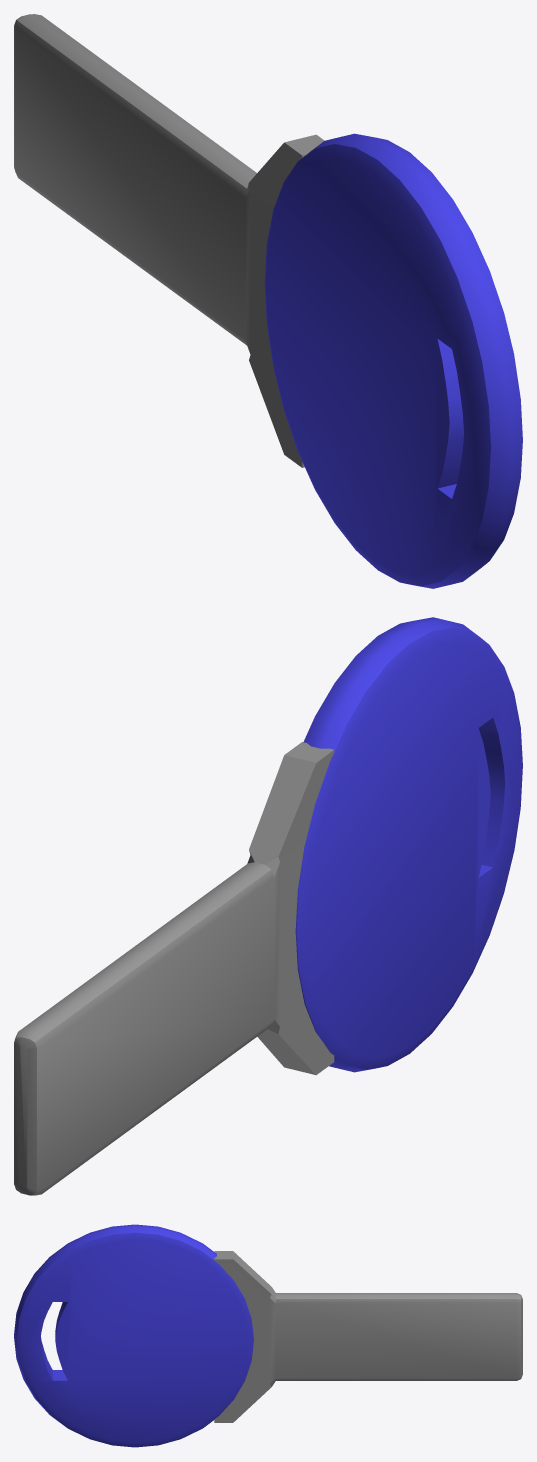
The model's file is Kluch.fbx.
The picture shows the model from 3 angles, top to bottom: view 1: azimuth 30°, elevation 25°; view 2: azimuth 150°, elevation 25°; view 3: azimuth 270°, elevation 25°; orthographic projection. The views are drawn at different scales.
Visible parts, largest first — view 1: Куб.008; view 2: Куб.008; view 3: Куб.008.
Part boxes in pixels (x1=…): Куб.008: x1=14, y1=14, x2=522, y2=588; Куб.008: x1=14, y1=617, x2=522, y2=1195; Куб.008: x1=14, y1=1224, x2=522, y2=1447.
Size of the model in its own units: 0.4498 by 4.39 by 9.21.
